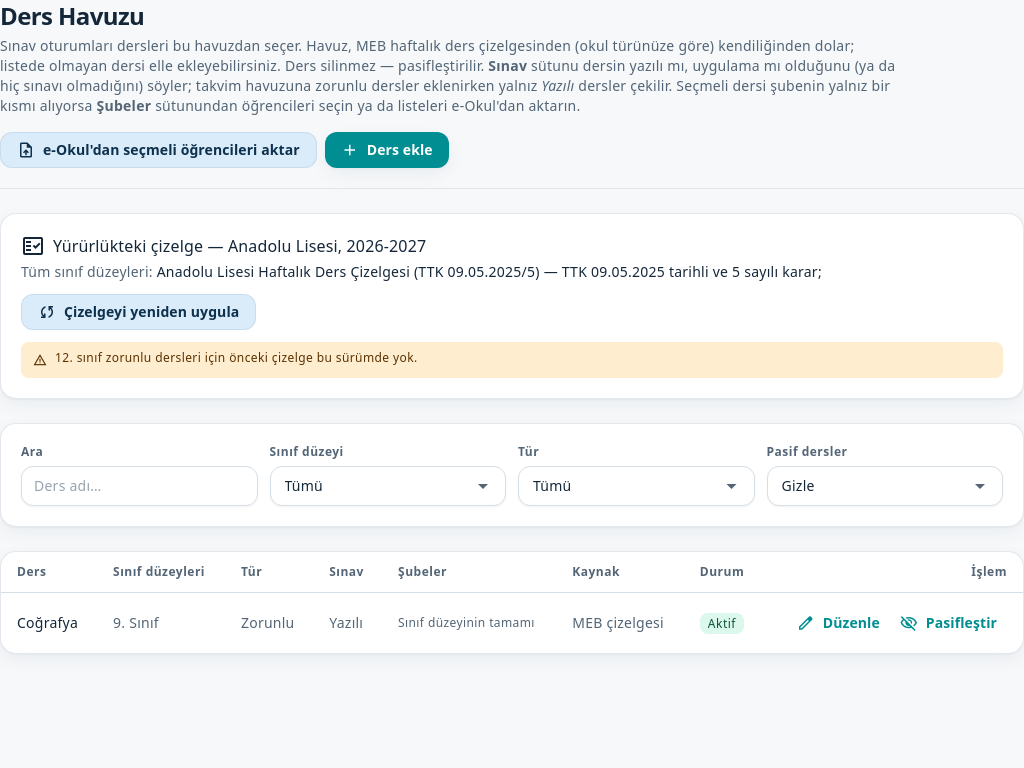
Test: DersHavuzuPage › pasifleştirme başlığı soru olan onaydan geçer
Click the button with aria-label "Coğrafya dersini pasifleştir" at (948, 623), box [890,605,1007,641]
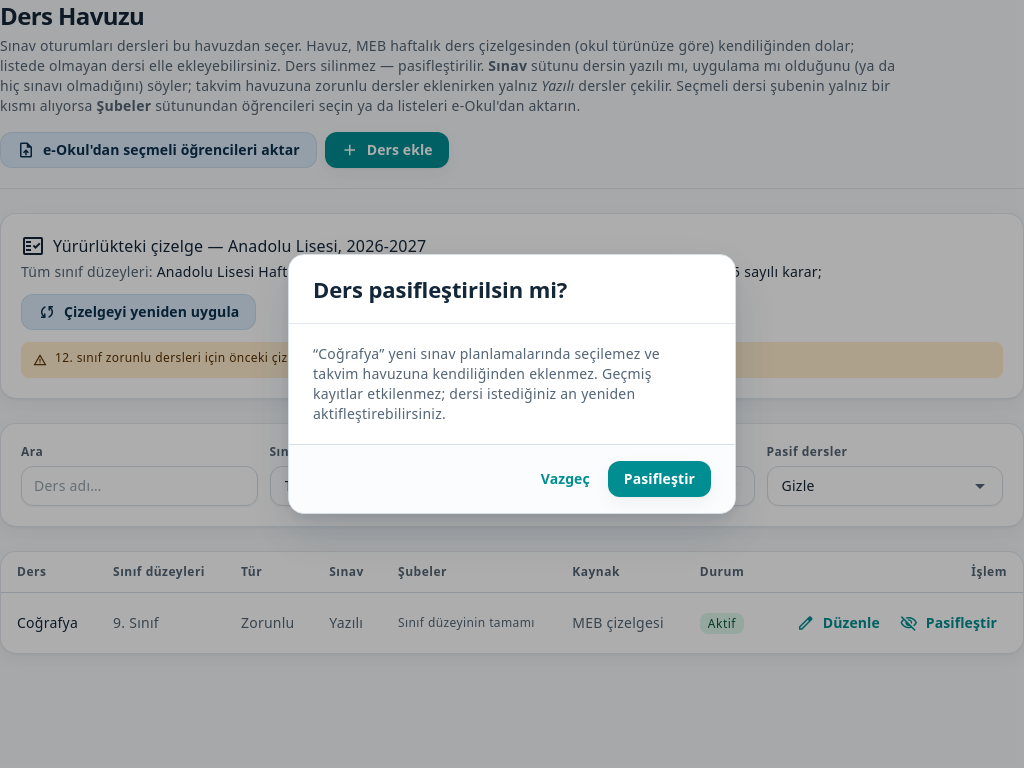
expect the text "yeni sınav planlamalarında seçilemez" is shown: met, box [313,344,660,423]
Click the button "Pasifleştir" at (659, 479), box [608,461,711,497]
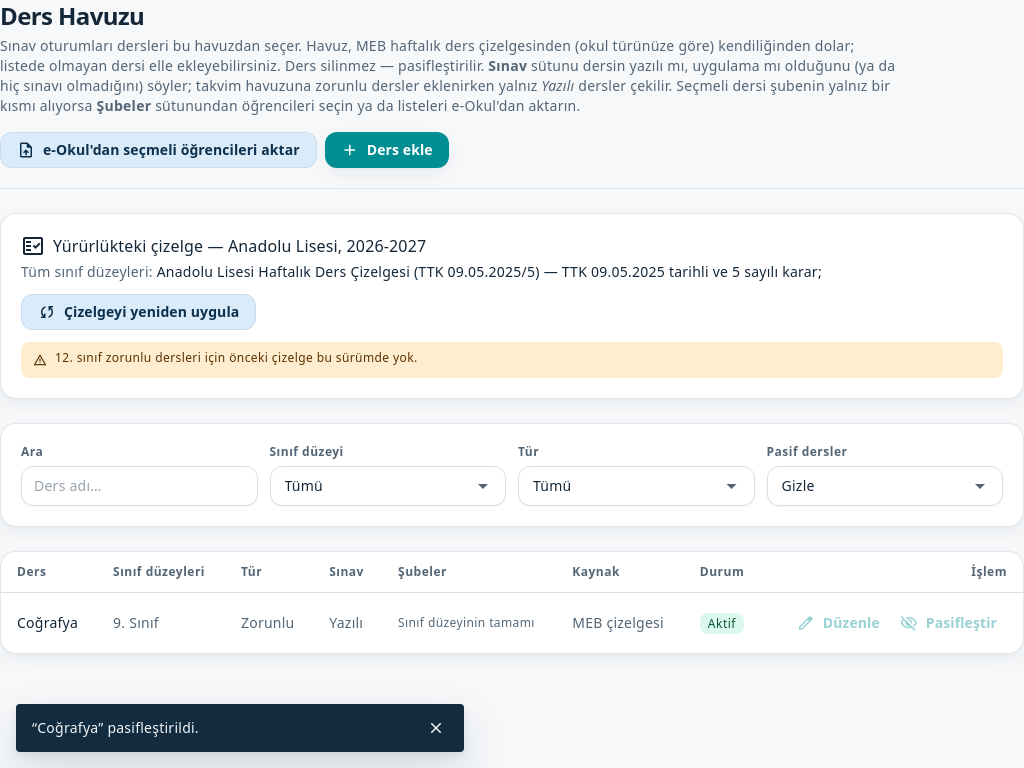
expect the text "“Coğrafya” pasifleştirildi." is shown: met, box [32,718,199,737]
